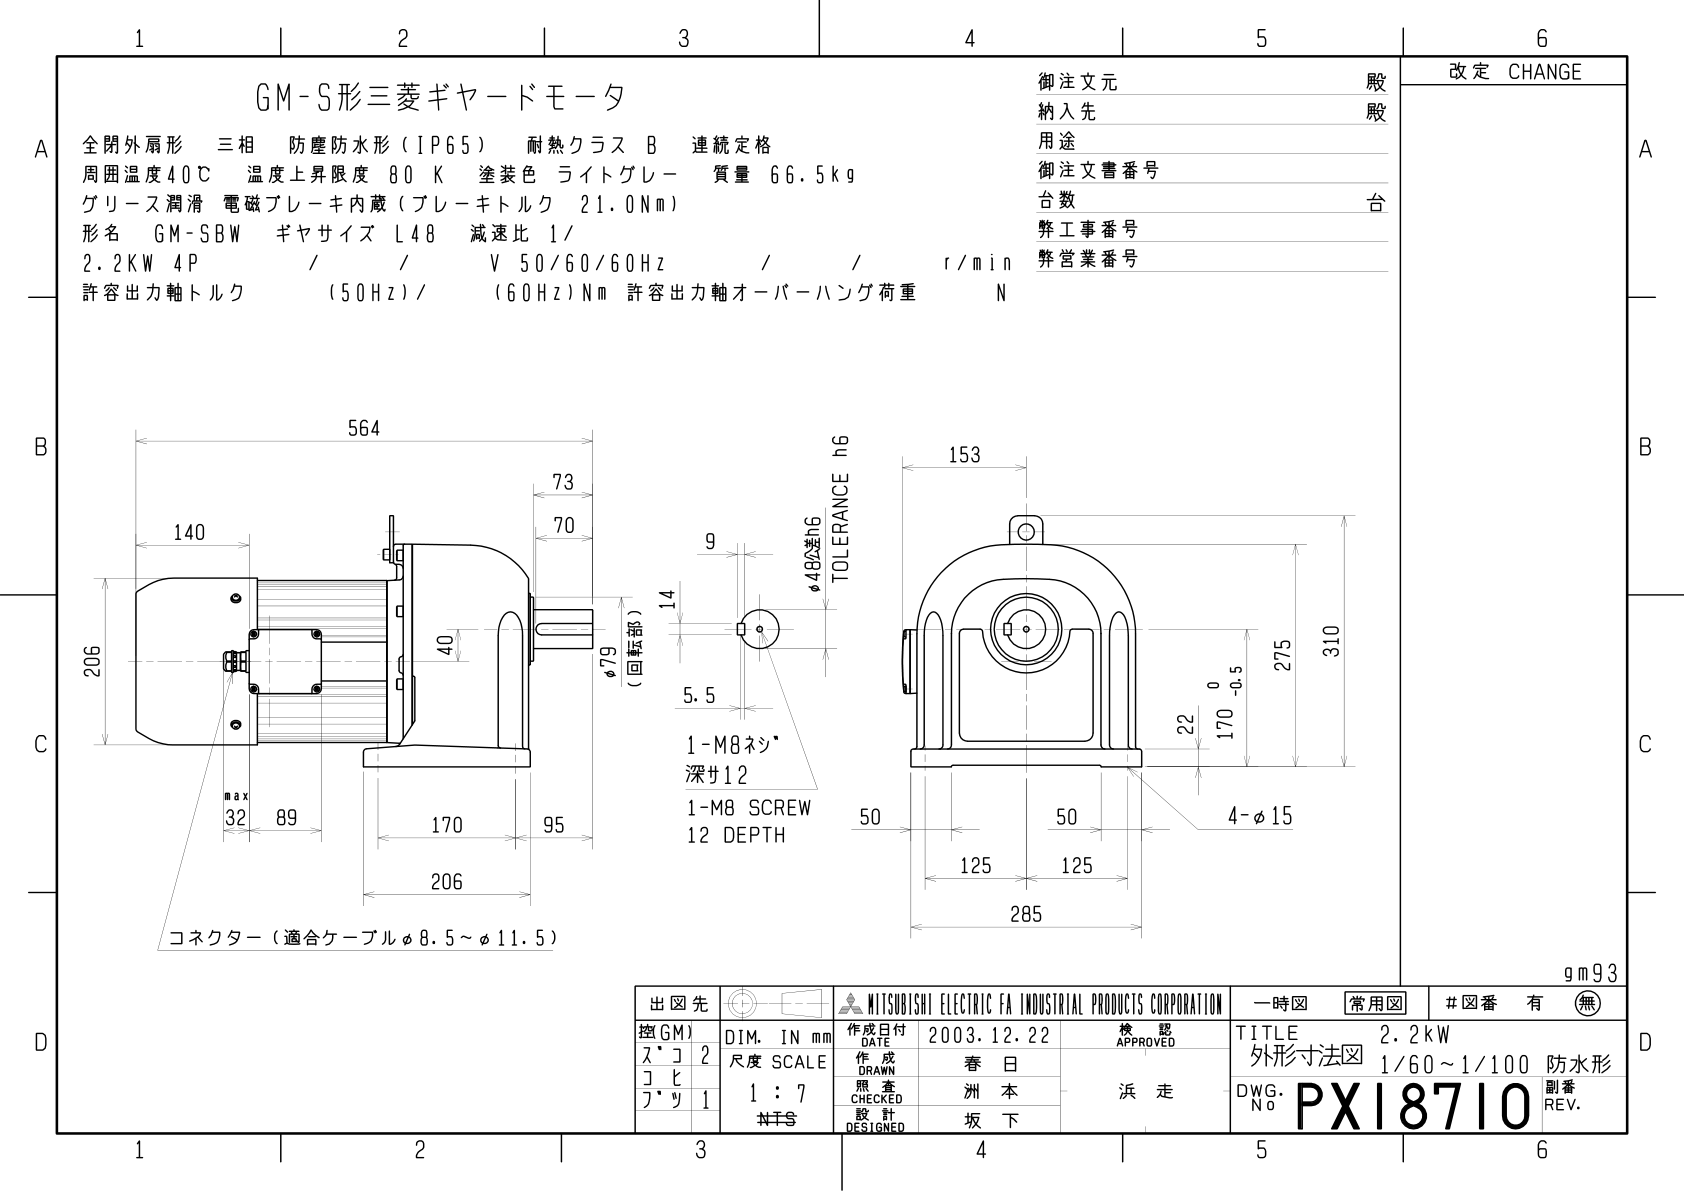GM_S_IP65＿三相_脚: (1, 6, 1684, 1191)
